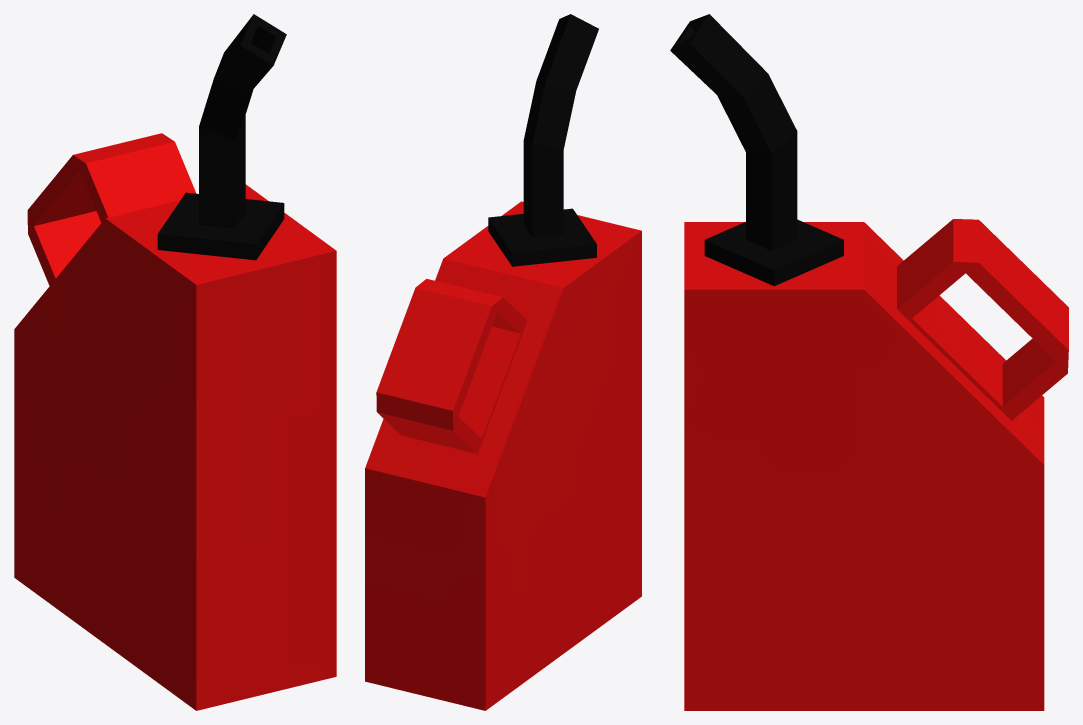
The model's file is Gascan 2.fbx.
3 renders of one model, left to right at view 1: azimuth 30°, elevation 25°; view 2: azimuth 150°, elevation 25°; view 3: azimuth 270°, elevation 25°, orthographic. The views are drawn at different scales.
Visible parts, largest first — view 1: Cube.001; view 2: Cube.001; view 3: Cube.001.
Part boxes in pixels (<box>): Cube.001: <box>14,14,336,710</box>; Cube.001: <box>365,14,641,710</box>; Cube.001: <box>670,14,1068,710</box>.
Size of the model in its own units: 48.63 by 222 by 121.
